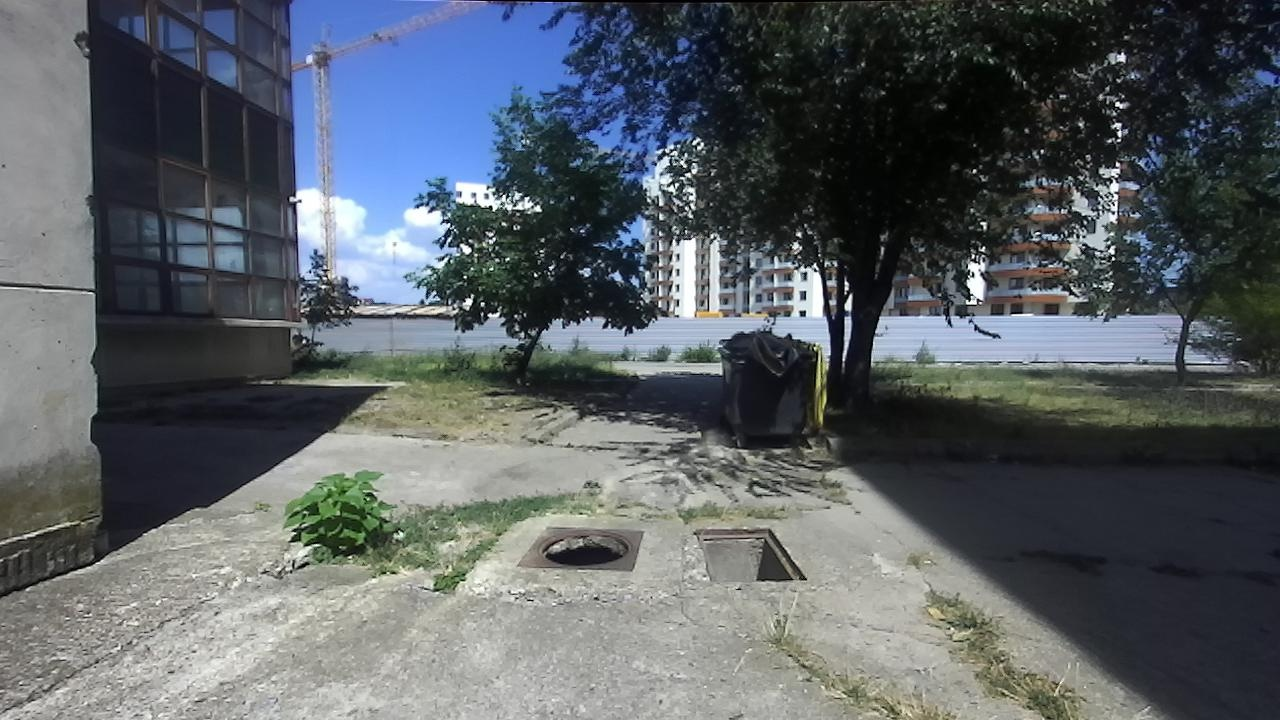drain: (690, 524, 807, 586), (535, 528, 635, 570)
